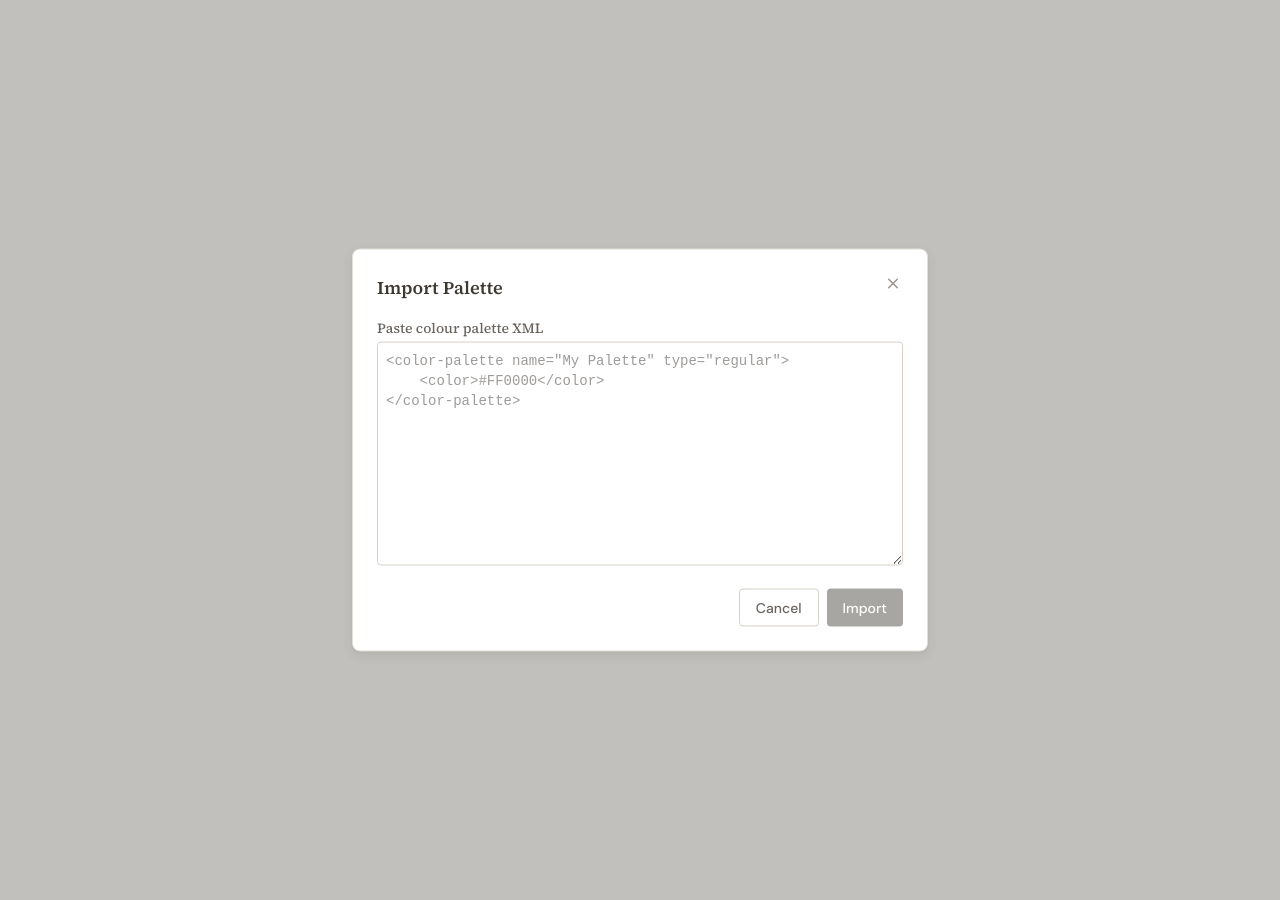
Scenario: ImportModal › shows a validation error for invalid XML
Type "<not-valid" into the text box at (640, 454), box [377, 342, 903, 566]
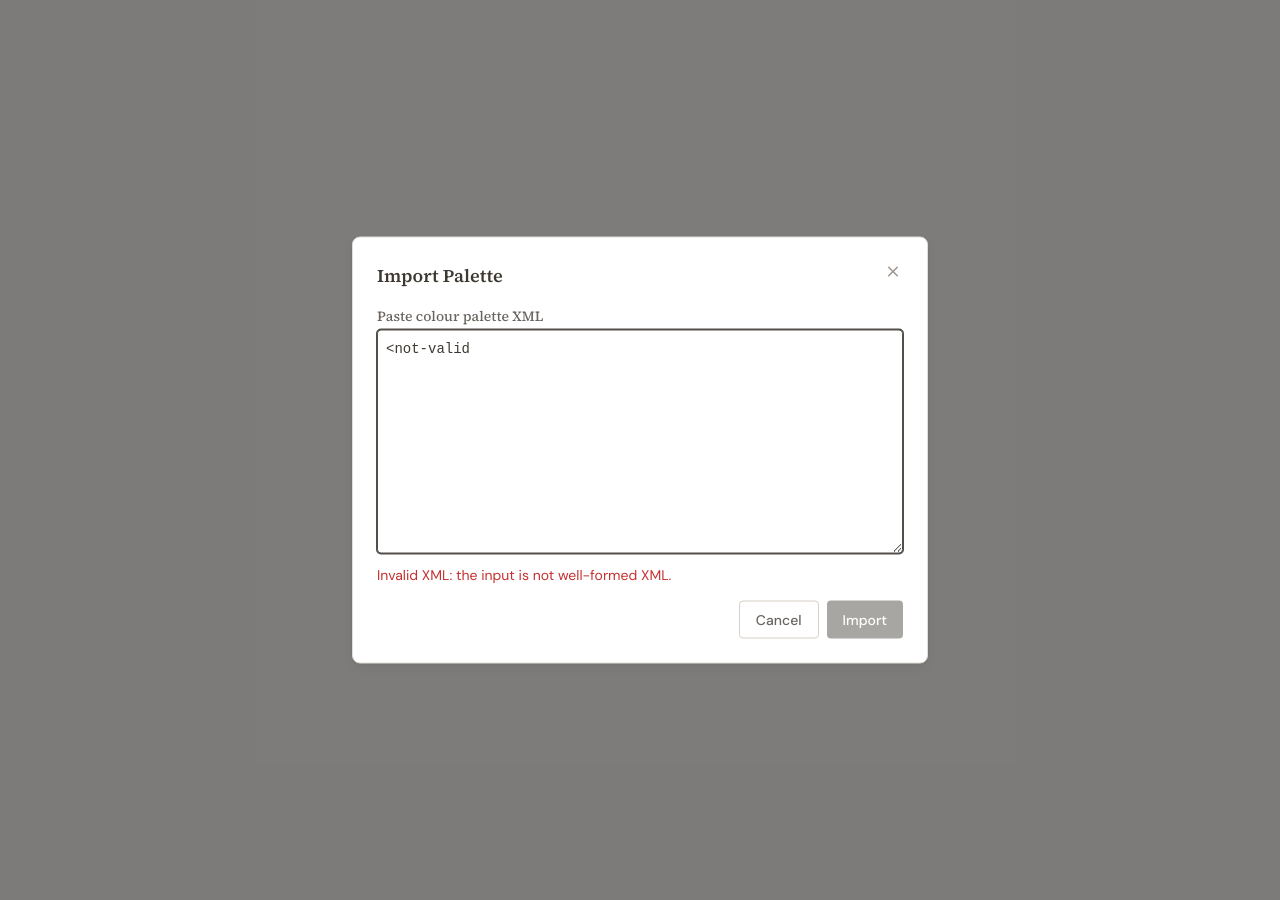
Expected: the button "Import" is disabled, [827, 600, 903, 638]
Expected: the message "Invalid XML: the input is not well-formed XML." is shown, [377, 566, 671, 584]
